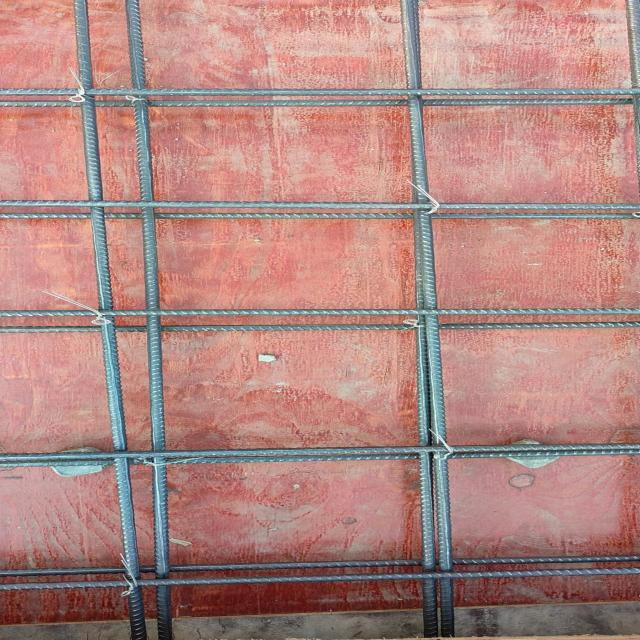ribbed bar: (68, 0, 152, 639), (394, 0, 460, 640), (120, 0, 176, 640), (0, 565, 639, 594), (0, 553, 639, 578), (0, 449, 639, 469), (0, 443, 639, 462), (0, 198, 639, 213), (0, 321, 639, 335), (0, 97, 639, 110), (0, 87, 639, 98), (0, 211, 639, 221), (0, 307, 639, 317)
